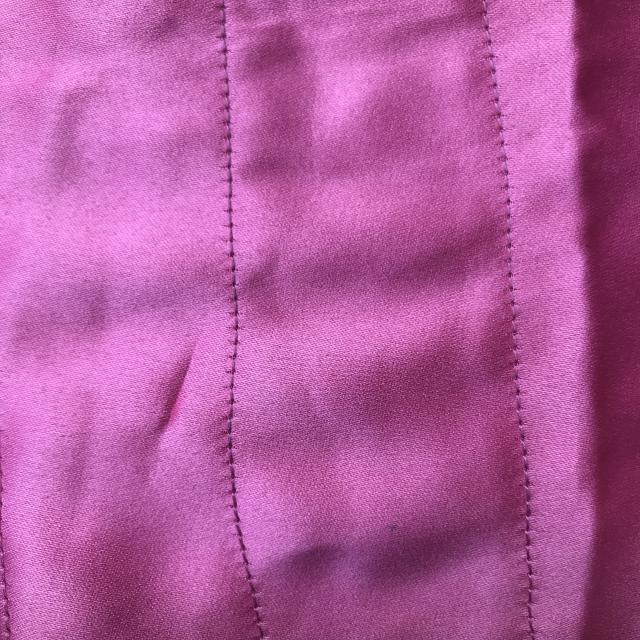good: (208, 177, 260, 337), (218, 448, 276, 569)
